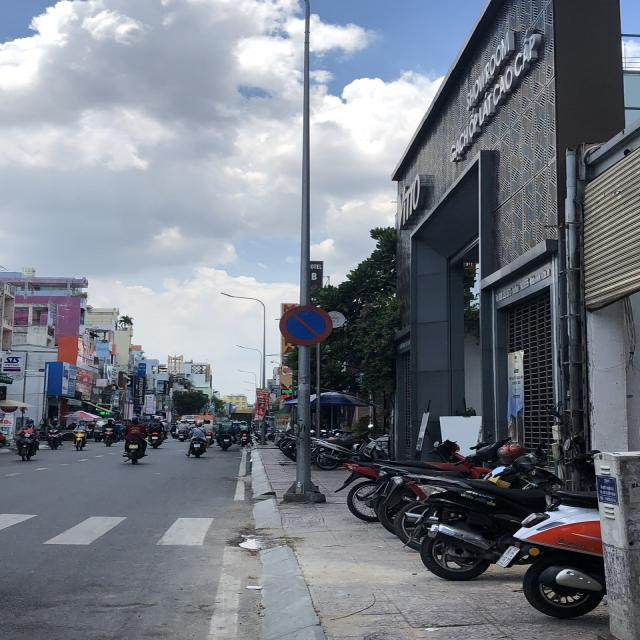Bien bao cam do xe: (278, 302, 334, 346)
